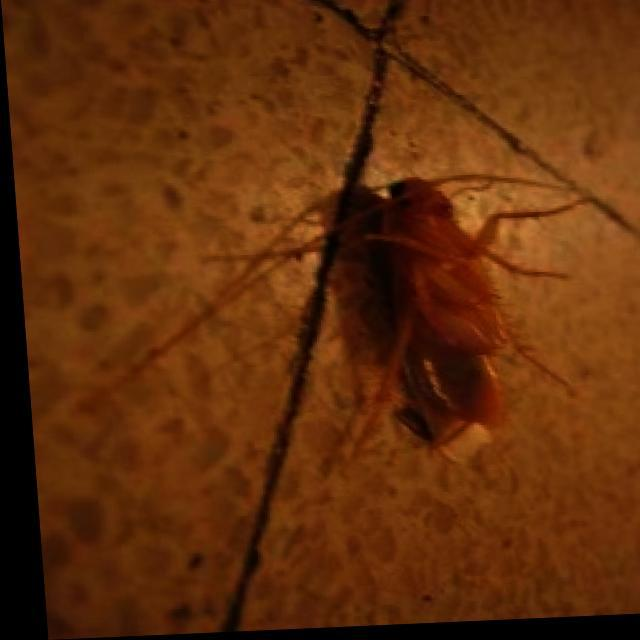cockroach: (364, 160, 518, 463)
